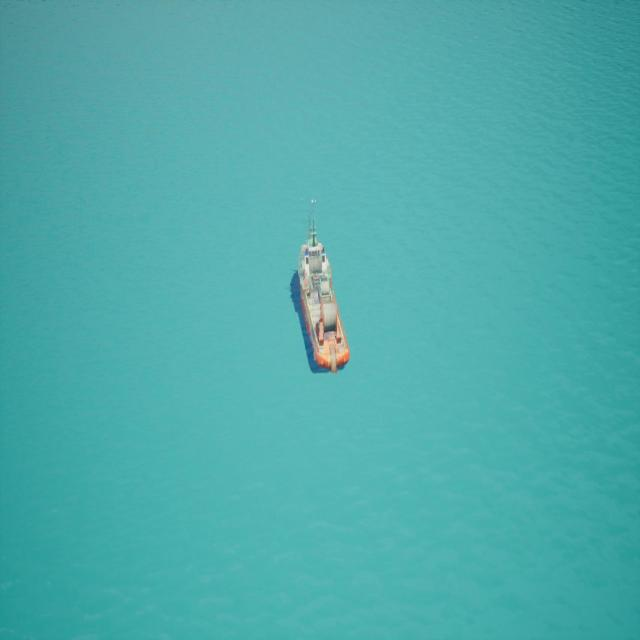tug boat: (290, 191, 359, 396)
